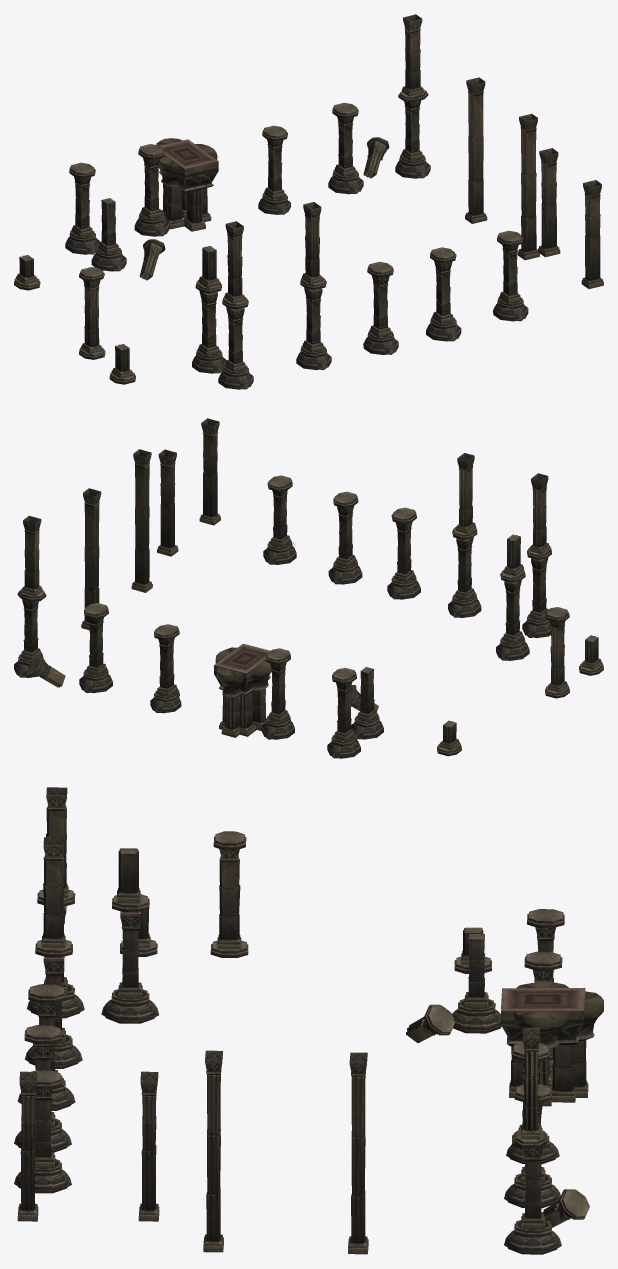
File: slsd_qiangmi_03.FBX
3 views of the same model, one above another, from view 1: azimuth 30°, elevation 25°; view 2: azimuth 150°, elevation 25°; view 3: azimuth 270°, elevation 25° (orthographic). The views are drawn at different scales.
Visible parts, largest first — view 1: slsd_qiangmi_03; view 2: slsd_qiangmi_03; view 3: slsd_qiangmi_03.
Boxes of the visible parts, left/top/right/bottom form: slsd_qiangmi_03: left=14, top=14, right=603, bottom=389; slsd_qiangmi_03: left=14, top=418, right=603, bottom=758; slsd_qiangmi_03: left=14, top=787, right=603, bottom=1254.
Bounding box in the file's own units: 5845 × 1992 × 4720.
